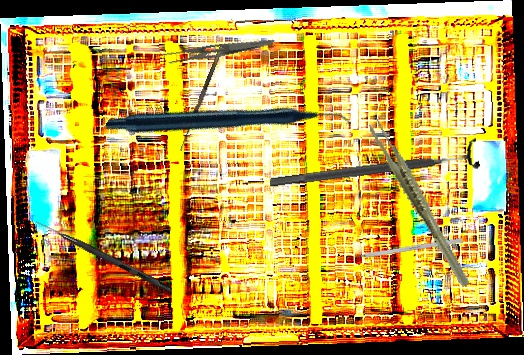Dressing Forceps: (159, 27, 276, 70)
Fixation Ring: (267, 136, 481, 200)
Handpiece: (103, 8, 353, 241)
Hook Surgical: (33, 219, 174, 293), (177, 43, 231, 154), (342, 237, 463, 262)
Tissue Forceps: (366, 107, 472, 300)
